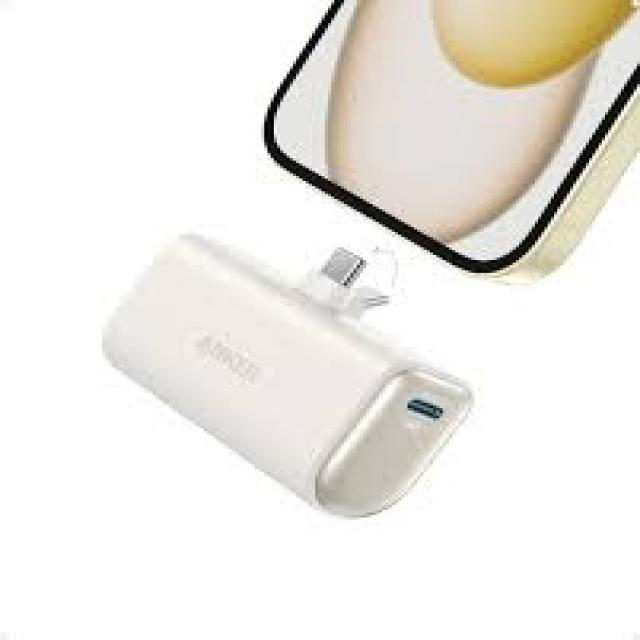power_bank: (95, 229, 480, 526)
